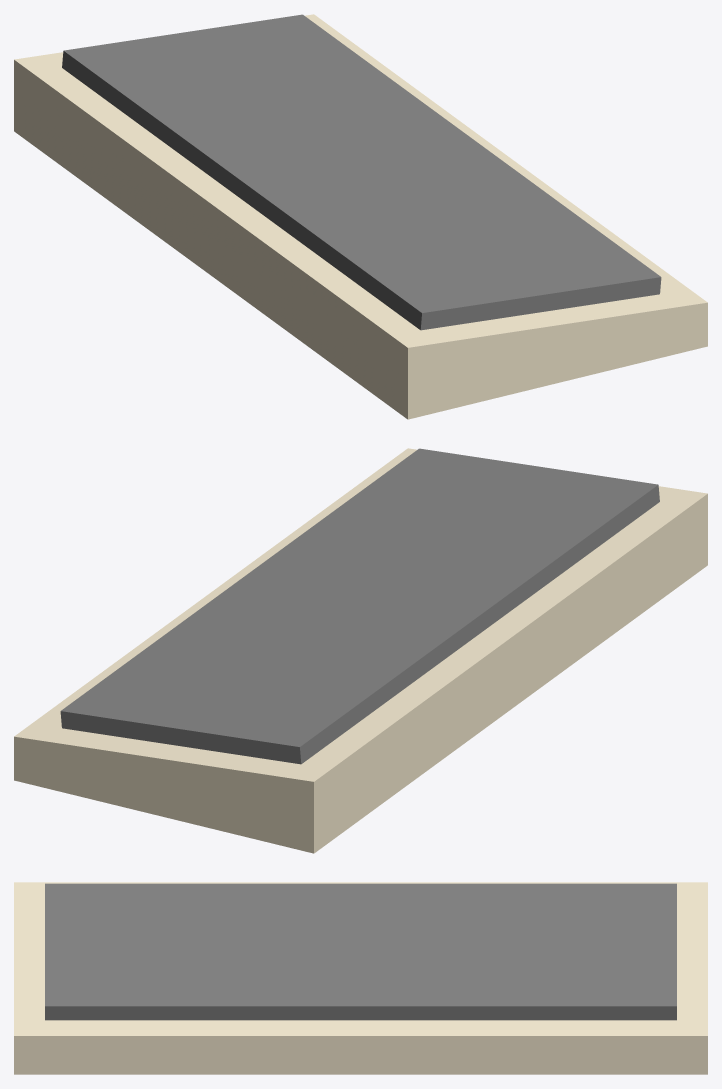
Rendered from Computer_Keyboard.fbx.
3 views of the same model, one above another, from view 1: azimuth 30°, elevation 25°; view 2: azimuth 150°, elevation 25°; view 3: azimuth 270°, elevation 25° (orthographic). The views are drawn at different scales.
Parts seen in each view (by area): view 1: Keyboard; view 2: Keyboard; view 3: Keyboard.
Part boxes in pixels (x1,y1,x2,y2): Keyboard: [14, 14, 707, 419]; Keyboard: [14, 448, 707, 853]; Keyboard: [14, 882, 707, 1074].
Size of the model in its own units: 14.76 by 4.04 by 33.56.
